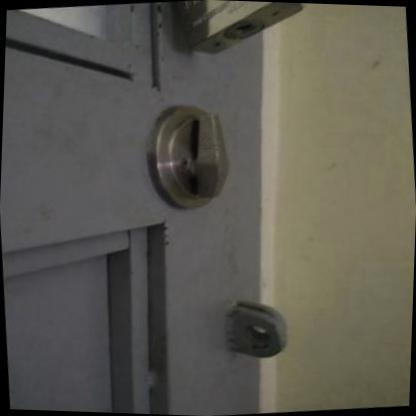unlock: (126, 85, 287, 240)
